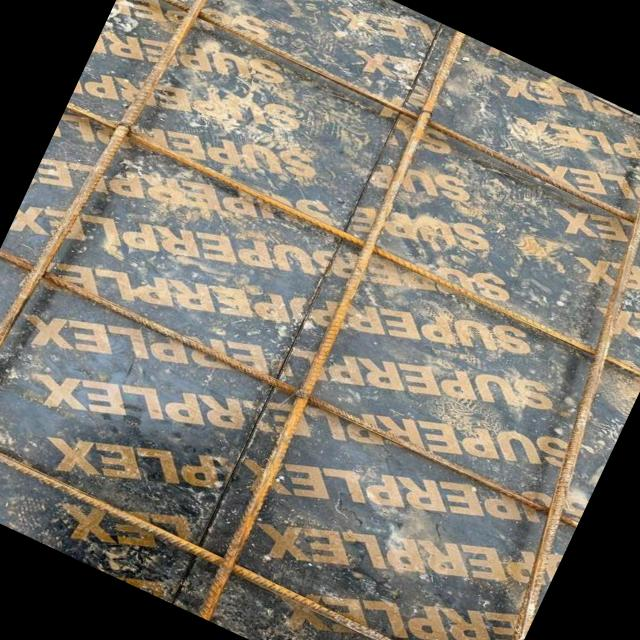ribbed bar: (184, 29, 479, 620), (0, 249, 579, 528), (64, 100, 640, 380), (123, 0, 640, 255), (0, 0, 247, 512), (417, 125, 640, 640), (0, 414, 502, 640)
